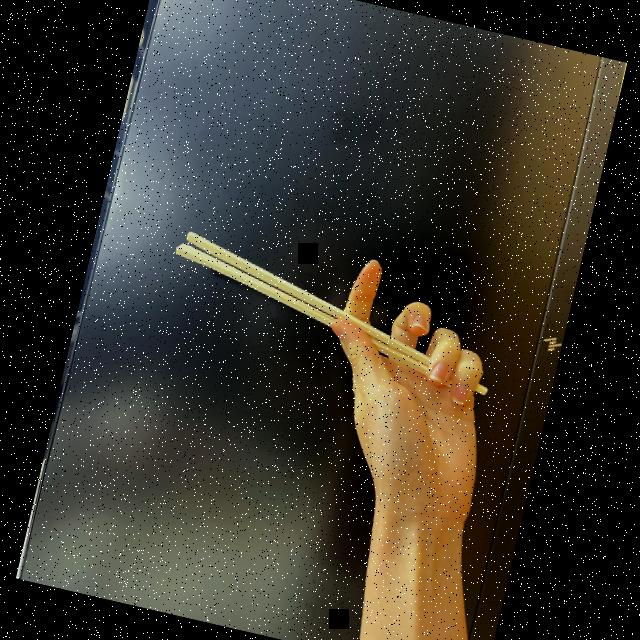stick: (133, 215, 515, 499)
